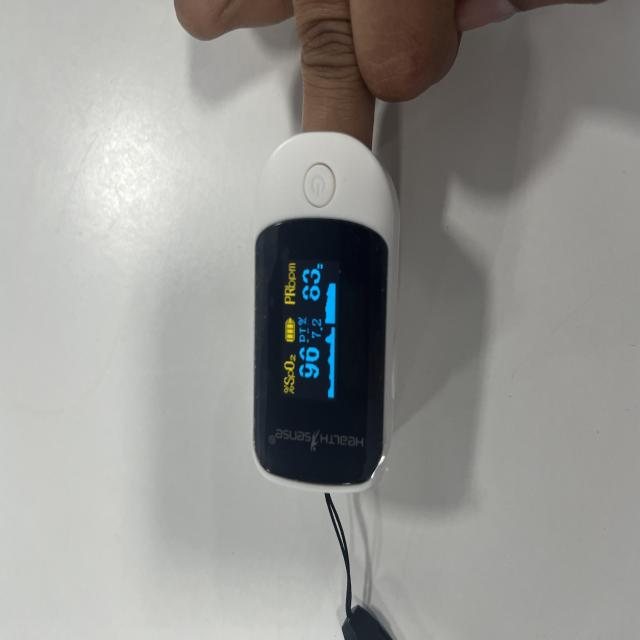spo2: (252, 132, 402, 493)
